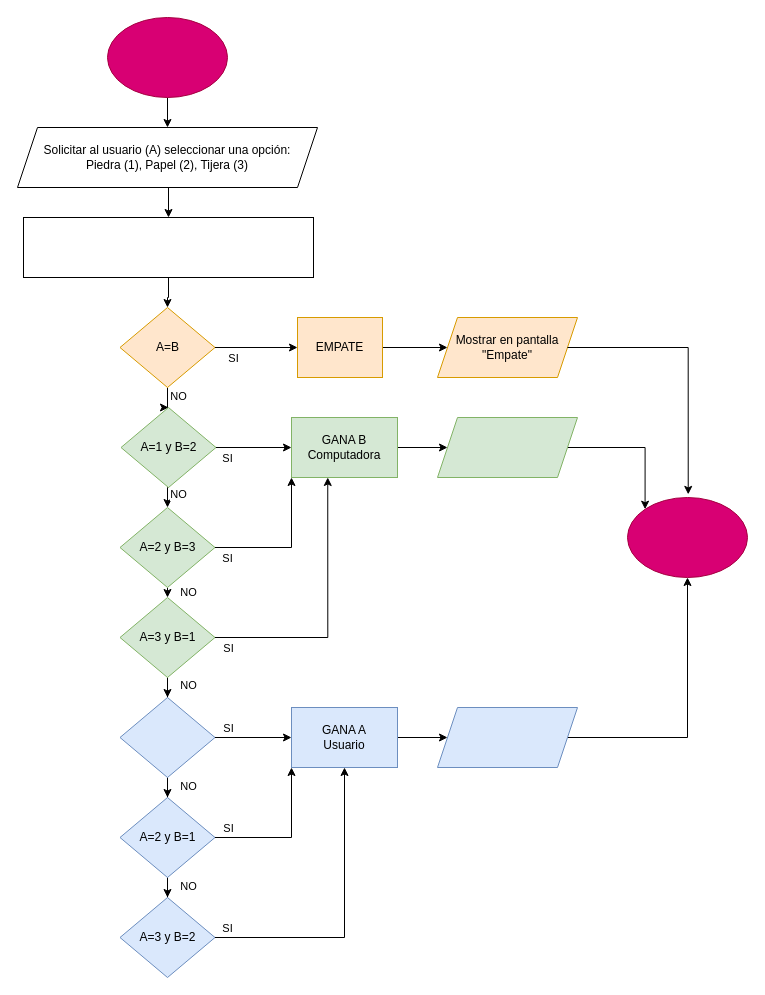
Some shapes in this 765 by 995 pixel diagram are drawn without their labels. The centre of each missing label's shape, as x and y in pixels:
A=1 y B=3: the point at 167,737
FIN: the point at 687,537
Inicio: the point at 167,57
Mostrar en pantalla "Gana Computadora": the point at 507,447
Mostrar en pantalla "Gana Usuario": the point at 507,737
Proceso de selección random computador (B) Piedra (1), Papel (2), Tijera (3): the point at 168,247
